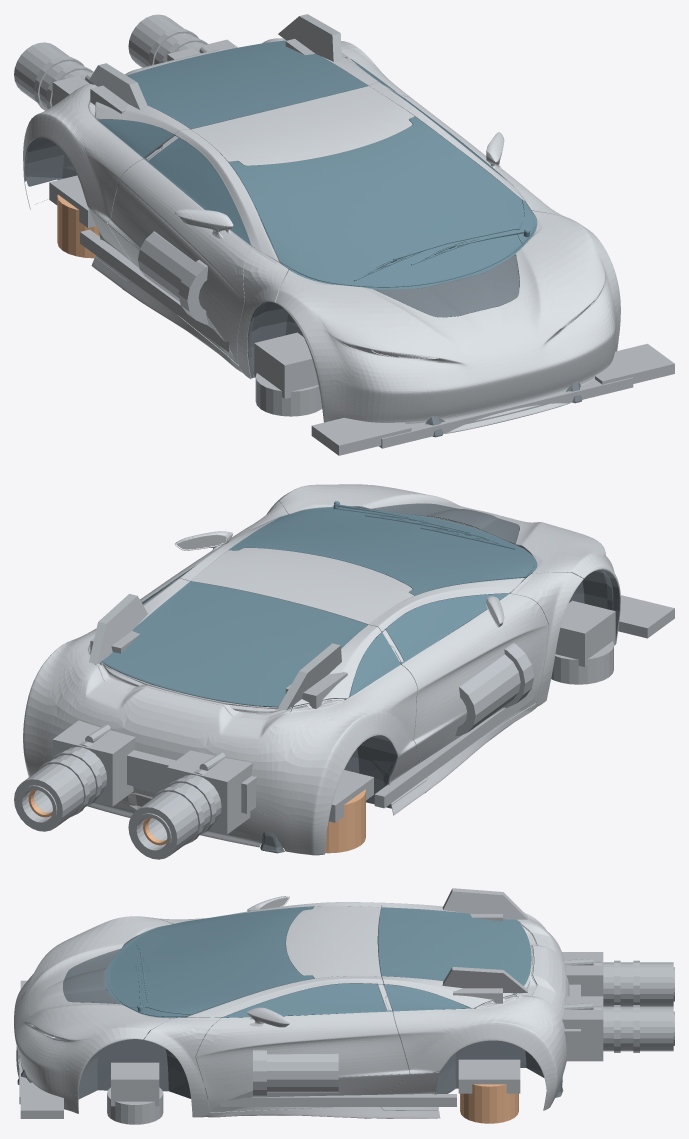
File: preview_street.glb
The picture shows the model from 3 angles, top to bottom: view 1: azimuth 30°, elevation 25°; view 2: azimuth 150°, elevation 25°; view 3: azimuth 270°, elevation 25°; orthographic projection. The views are drawn at different scales.
Parts seen in each view (by area): view 1: DONOR_BodyHood, DONOR_BodyWindshield, DONOR_BodyRearwindow, DONOR_BodyRoofPanel, DONOR_BodyDoorRColor1, DONOR_BodyRearPanelsColor1, DONOR_BodyPillars, DONOR_BodyHoodTopgrill, DONOR_BodyDoorRWindow, DONOR_BodyPanelsColor2, DONOR_BodyUnderside, INSTALLED_front_lift_port_FRONT_LIFT_MOUNT (+18 smaller); view 2: DONOR_BodyRearPanelsColor1, DONOR_BodyRearwindow, DONOR_BodyWindshield, DONOR_BodyDoorRColor1, DONOR_BodyRoofPanel, DONOR_BodyHood, DONOR_BodyPillars, DONOR_BodyPanelsColor2, INSTALLED_rear_engine_MAIN_1_HOLLOW_BELL, INSTALLED_rear_engine_MAIN_-1_HOLLOW_BELL, DONOR_BodyDoorRWindow, DONOR_BodyUnderside (+21 smaller); view 3: DONOR_BodyWindshield, DONOR_BodyHood, DONOR_BodyRearPanelsColor1, DONOR_BodyDoorLColor1, DONOR_BodyRearwindow, DONOR_BodyRoofPanel, DONOR_BodyUnderside, DONOR_BodyPillars, DONOR_BodyPanelsColor2, DONOR_BodyDoorLWindow, INSTALLED_side_intakes_0_SIDE_INTAKE_BORE_1, INSTALLED_rear_engine_MAIN_1_HOLLOW_BELL (+20 smaller).
Part boxes in pixels (left/top/right/bottom): DONOR_BodyHood: left=275, top=210, right=620, bottom=425; DONOR_BodyWindshield: left=229, top=116, right=523, bottom=287; DONOR_BodyRearwindow: left=127, top=40, right=368, bottom=129; DONOR_BodyRoofPanel: left=191, top=86, right=414, bottom=165; DONOR_BodyDoorRColor1: left=108, top=159, right=251, bottom=364; DONOR_BodyRearPanelsColor1: left=23, top=38, right=410, bottom=222; DONOR_BodyPillars: left=175, top=82, right=569, bottom=379; DONOR_BodyHoodTopgrill: left=373, top=254, right=519, bottom=317; DONOR_BodyDoorRWindow: left=148, top=138, right=250, bottom=243; DONOR_BodyPanelsColor2: left=24, top=182, right=619, bottom=433; DONOR_BodyUnderside: left=25, top=137, right=303, bottom=378; INSTALLED_front_lift_port_FRONT_LIFT_MOUNT: left=254, top=332, right=318, bottom=398; DONOR_BodyRearPanelsColor1: left=23, top=578, right=417, bottom=832; DONOR_BodyRearwindow: left=101, top=581, right=367, bottom=706; DONOR_BodyWindshield: left=229, top=509, right=534, bottom=595; DONOR_BodyDoorRColor1: left=401, top=593, right=548, bottom=744; DONOR_BodyRoofPanel: left=191, top=548, right=414, bottom=624; DONOR_BodyHood: left=276, top=484, right=620, bottom=619; DONOR_BodyPillars: left=177, top=501, right=583, bottom=705; DONOR_BodyPanelsColor2: left=25, top=620, right=619, bottom=855; INSTALLED_rear_engine_MAIN_1_HOLLOW_BELL: left=14, top=747, right=106, bottom=831; INSTALLED_rear_engine_MAIN_-1_HOLLOW_BELL: left=128, top=774, right=221, bottom=859; DONOR_BodyDoorRWindow: left=385, top=593, right=506, bottom=660; DONOR_BodyUnderside: left=260, top=569, right=612, bottom=853; DONOR_BodyWindshield: left=108, top=906, right=314, bottom=1014; DONOR_BodyHood: left=14, top=916, right=173, bottom=1097; DONOR_BodyRearPanelsColor1: left=382, top=902, right=569, bottom=1090; DONOR_BodyDoorLColor1: left=196, top=1011, right=409, bottom=1112; DONOR_BodyRearwindow: left=378, top=907, right=531, bottom=993; DONOR_BodyRoofPanel: left=286, top=906, right=381, bottom=978; DONOR_BodyUnderside: left=78, top=1037, right=563, bottom=1099; DONOR_BodyPillars: left=144, top=902, right=383, bottom=1117; DONOR_BodyPanelsColor2: left=16, top=1047, right=566, bottom=1118; DONOR_BodyDoorLWindow: left=224, top=983, right=386, bottom=1016; INSTALLED_side_intakes_0_SIDE_INTAKE_BORE_1: left=267, top=1053, right=338, bottom=1092; INSTALLED_rear_engine_MAIN_1_HOLLOW_BELL: left=603, top=1006, right=673, bottom=1051.
Bounding box in the file's own units: 2.5 × 1.18 × 5.17.
